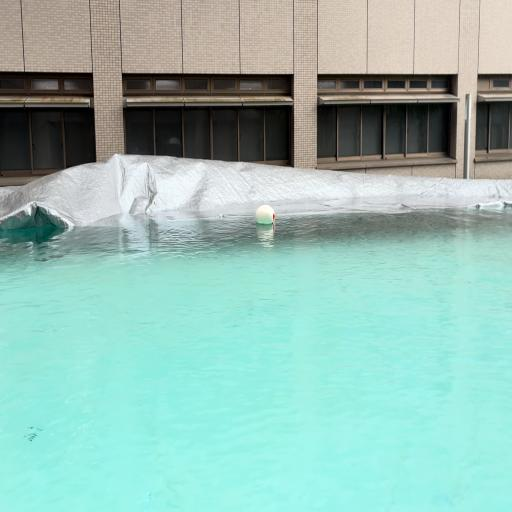white buoy: (256, 205, 275, 224)
